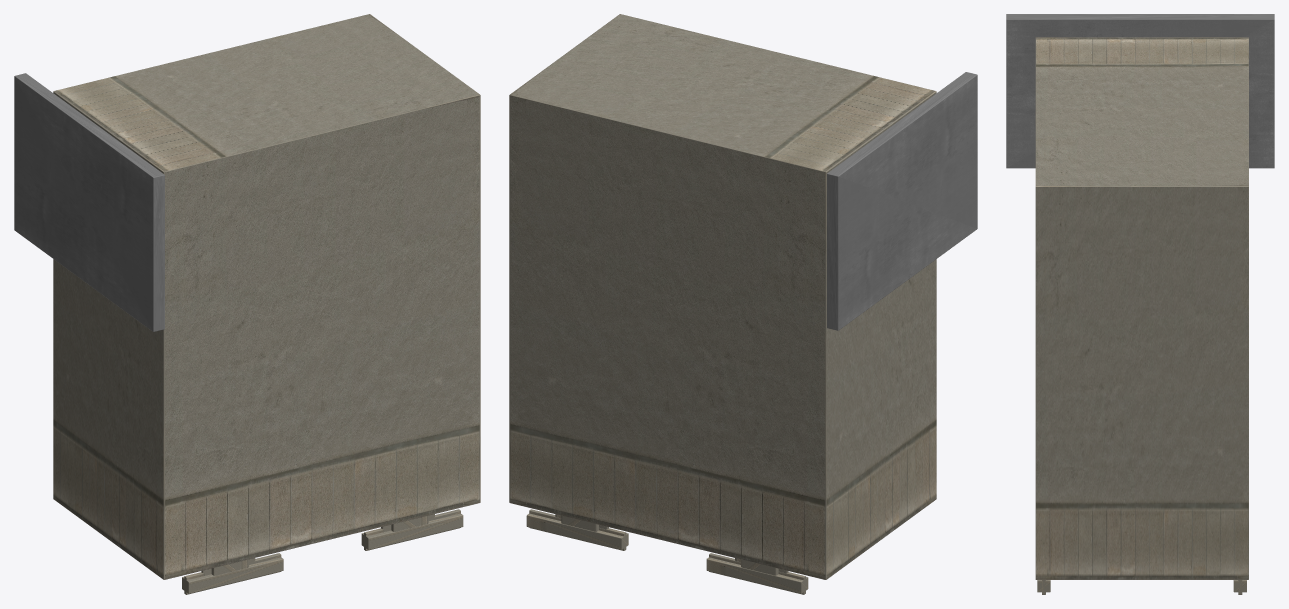
The model's file is pusher.dae.
The picture shows the model from 3 angles, left to right: view 1: azimuth 30°, elevation 25°; view 2: azimuth 150°, elevation 25°; view 3: azimuth 270°, elevation 25°; orthographic projection. The views are drawn at different scales.
Visible parts, largest first — view 1: pusher_body_003, pusher_arm_003; view 2: pusher_body_003, pusher_arm_003; view 3: pusher_body_003, pusher_arm_003.
Boxes of the visible parts, box(x1,y1,x2,y2) form: pusher_body_003: box(53, 14, 480, 594); pusher_arm_003: box(14, 73, 164, 331); pusher_body_003: box(509, 14, 936, 594); pusher_arm_003: box(827, 72, 977, 330); pusher_body_003: box(1035, 37, 1248, 594); pusher_arm_003: box(1006, 14, 1274, 168).
Size of the model in its own units: 5.8 by 4.08 by 7.17.
Materials: 2 (2 with a texture image).
